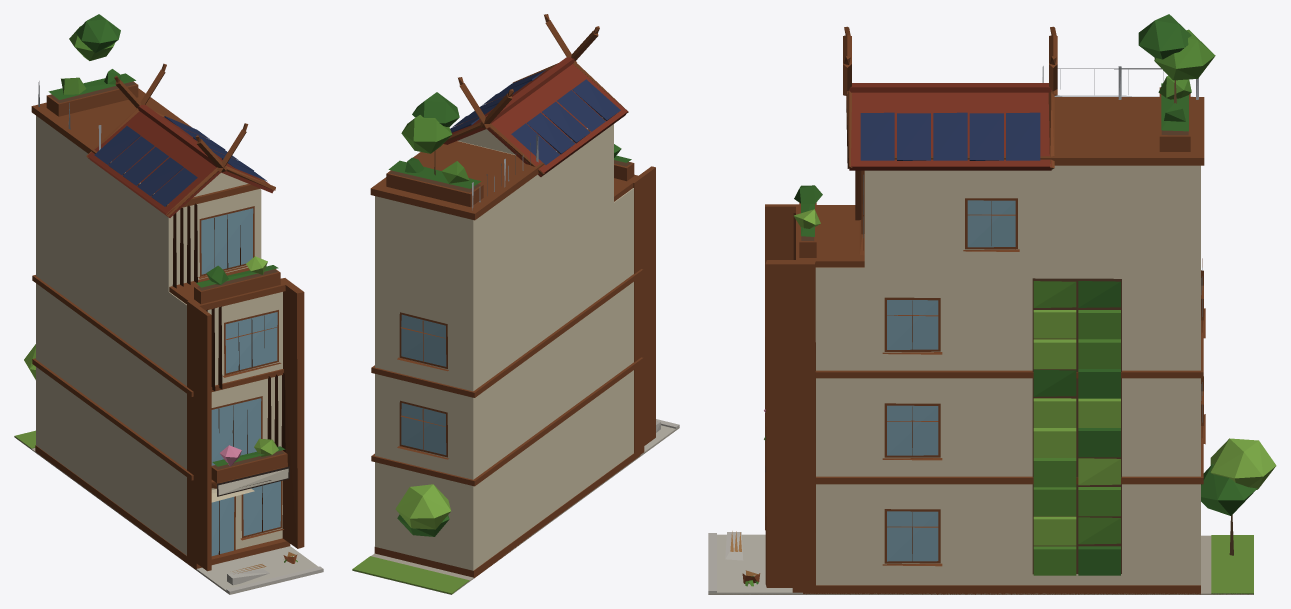
The model's file is bay2_right.glb.
3 renders of one model, left to right at view 1: azimuth 30°, elevation 25°; view 2: azimuth 150°, elevation 25°; view 3: azimuth 270°, elevation 25°, orthographic. The views are drawn at different scales.
Visible parts, largest first — view 1: body; view 2: body; view 3: body.
Boxes of the visible parts, x1,y1,x2,y2 form: body: (14,14,323,594); body: (352,14,679,594); body: (708,14,1276,594).
Bounding box in the file's own units: 4.68 × 17.9 × 16.56.
